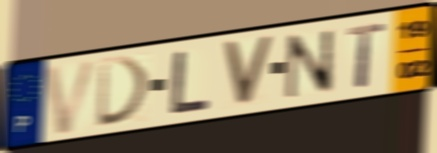D: (95, 54, 154, 131)
L: (167, 48, 212, 117)
N: (284, 28, 336, 101)
T: (346, 20, 387, 89)
V: (41, 56, 102, 138), (220, 34, 277, 108)
